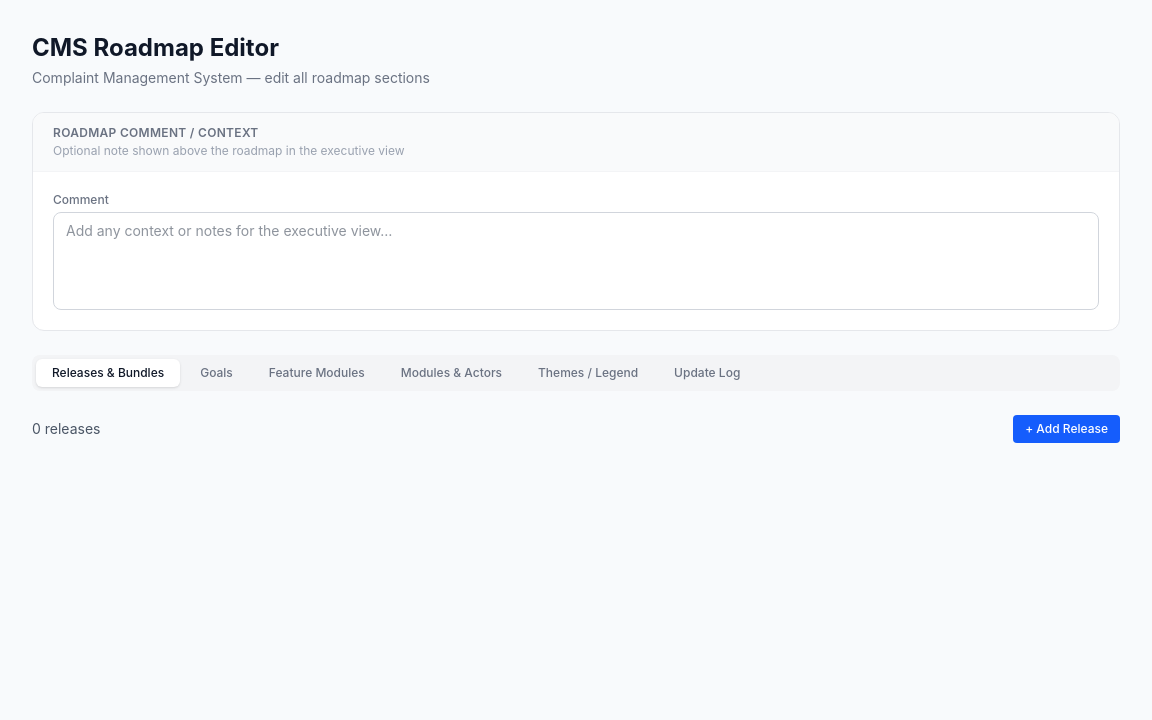
Scenario: ComplaintsRoadmapEditor (via RoadmapEditor with cms slug) › T-50.18: "+ Add Module Group" button opens module group form
The image size is (1152, 720).
What coordinates should you click on to do the following:
click the button "Feature Modules"
I would click on:
 (317, 373)
Its box is x1=253 y1=359 x2=381 y2=387.
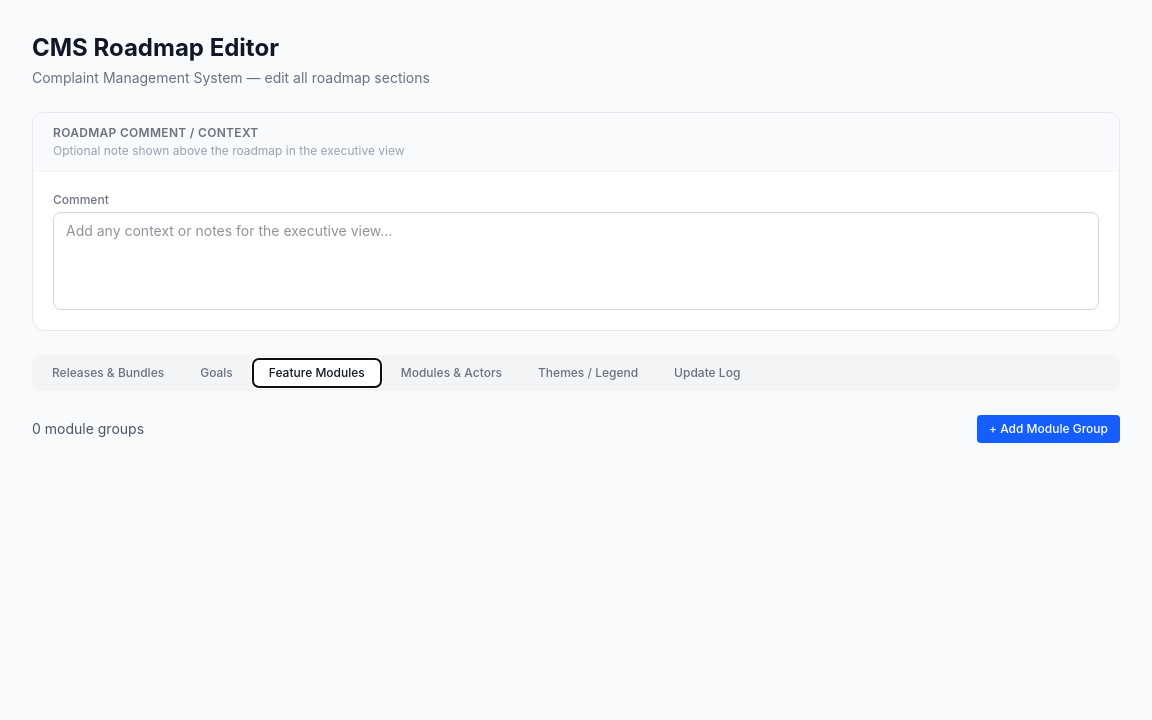
Now the button "+ Add Module Group" is shown
What coordinates should you click on to do the following:
click the button "+ Add Module Group"
I would click on:
 (1048, 429)
Its box is x1=977 y1=415 x2=1120 y2=443.
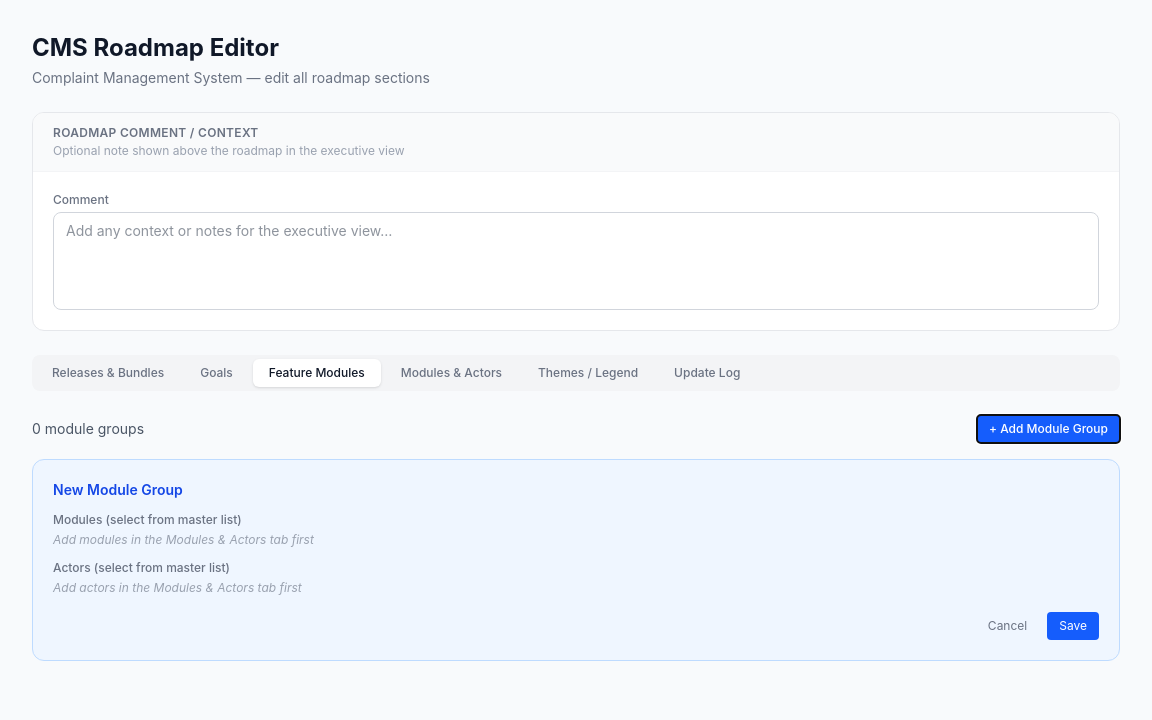
Now the text "New Module Group" is shown, box x1=53 y1=481 x2=183 y2=498
